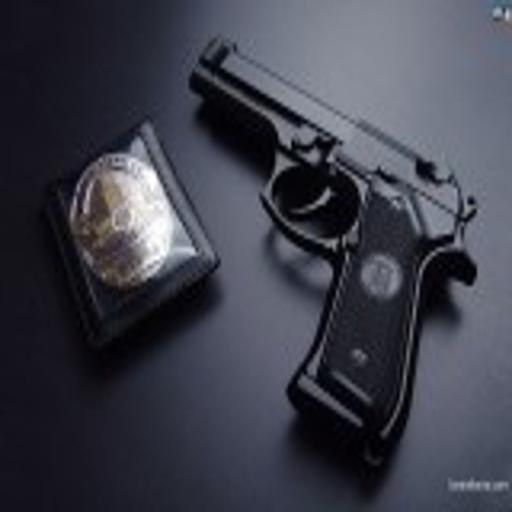Handgun: (181, 20, 482, 485)
